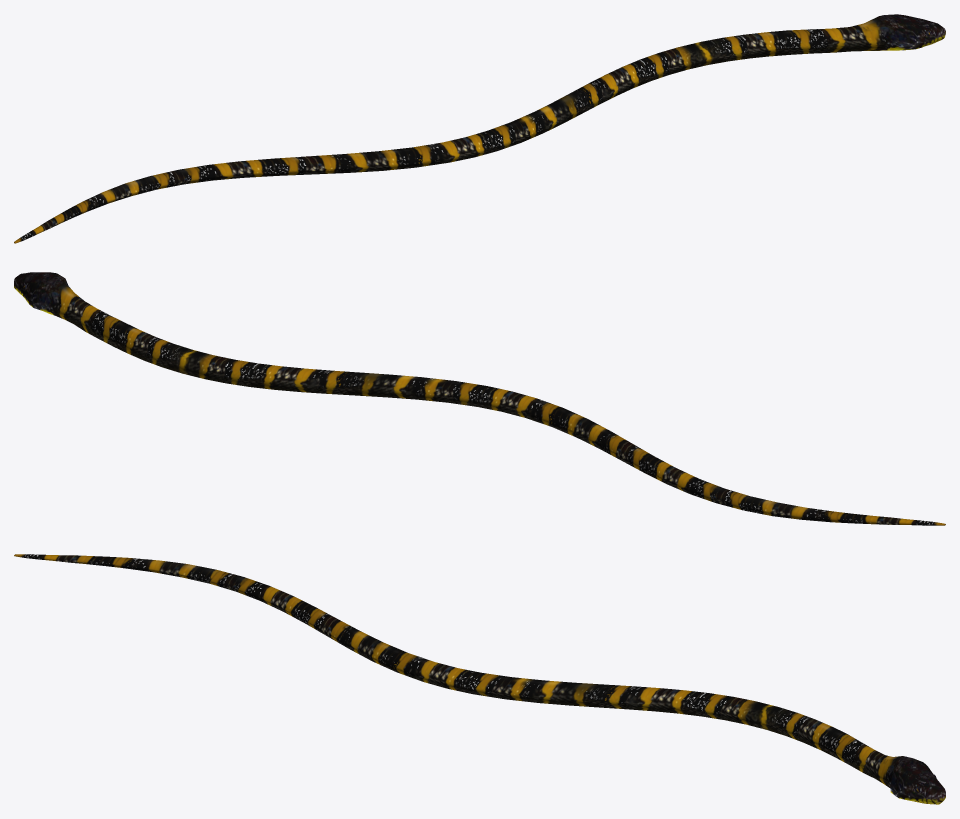
Rendered from Snake.FBX.
3 renders of one model, top to bottom at view 1: azimuth 30°, elevation 25°; view 2: azimuth 150°, elevation 25°; view 3: azimuth 330°, elevation 25°, orthographic. The views are drawn at different scales.
Parts seen in each view (by area): view 1: Snake; view 2: Snake; view 3: Snake.
Part boxes in pixels (bbox=[...]): Snake: bbox=[14, 14, 945, 243]; Snake: bbox=[14, 272, 945, 525]; Snake: bbox=[14, 554, 945, 804].
Bounding box in the file's own units: 215 × 7 × 22.61.
Materials: 1 (1 with a texture image).
